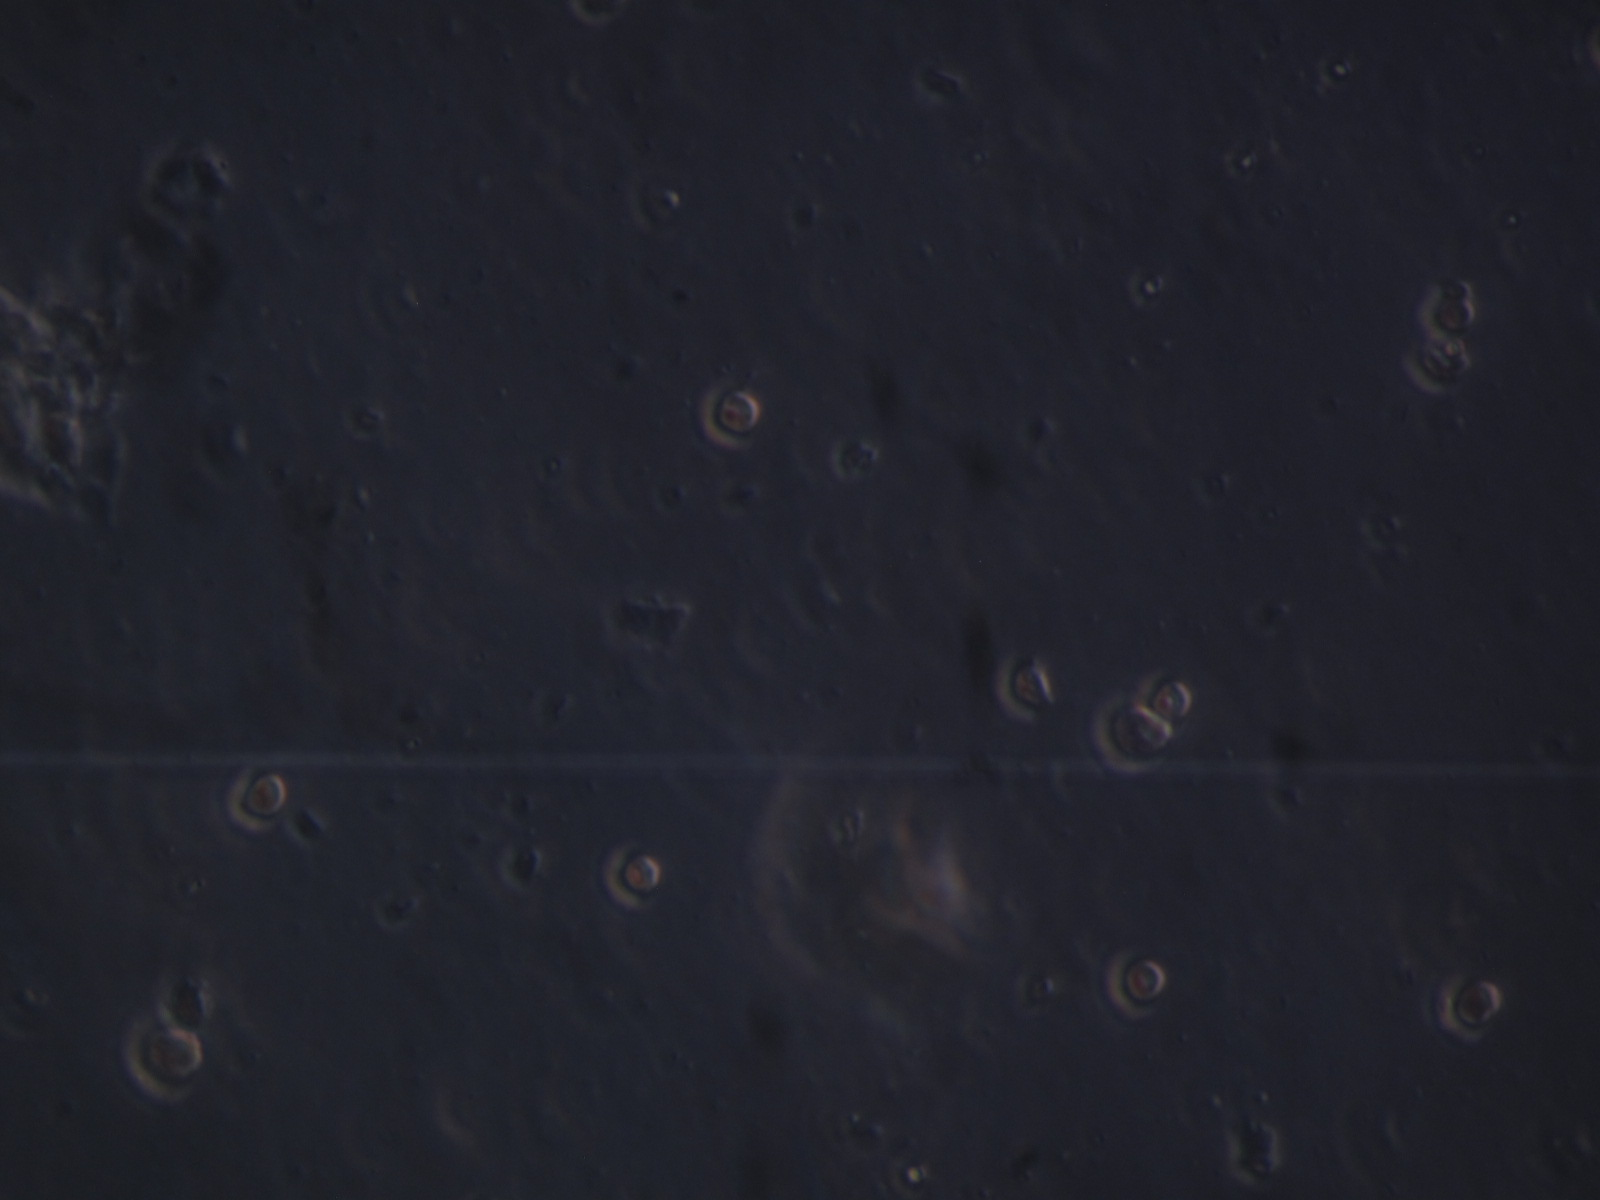hemo: (126, 1017, 205, 1105), (1092, 695, 1173, 774), (598, 836, 661, 915), (1105, 943, 1167, 1024), (1434, 968, 1500, 1042), (700, 378, 761, 451), (997, 648, 1054, 724), (227, 765, 289, 836), (1402, 337, 1471, 397), (1135, 667, 1193, 724), (1421, 292, 1475, 343)
